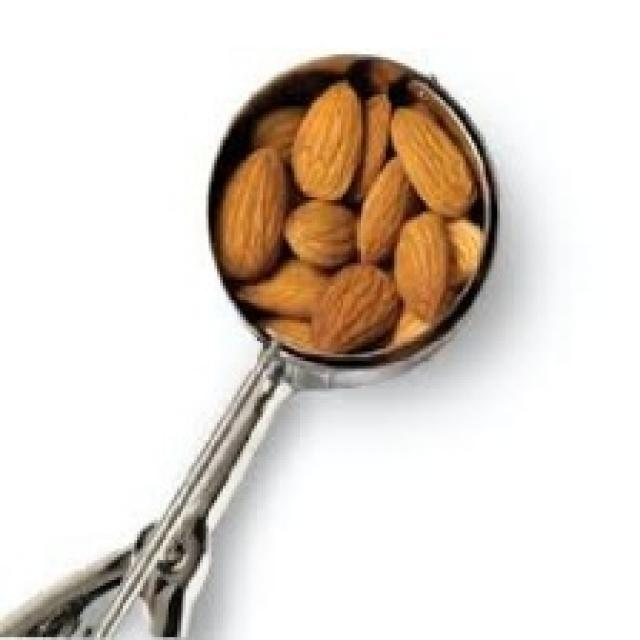almond: (392, 102, 477, 222), (219, 147, 294, 280), (292, 83, 372, 197), (312, 260, 400, 355), (392, 214, 448, 324), (357, 157, 407, 262), (238, 263, 335, 312), (284, 202, 354, 268)
